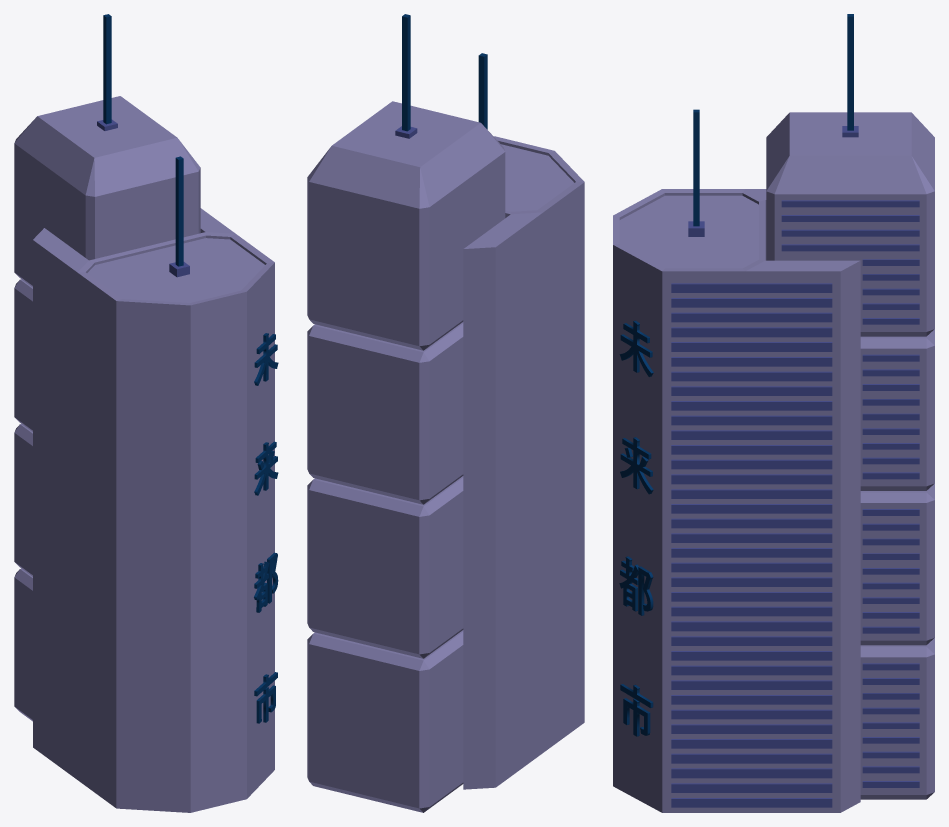
The model's file is Building2.fbx.
3 views of the same model, side by side, from view 1: azimuth 30°, elevation 25°; view 2: azimuth 150°, elevation 25°; view 3: azimuth 270°, elevation 25° (orthographic). The views are drawn at different scales.
Parts seen in each view (by area): view 1: Cube.009, Cube.008, Text, Cube.005, Cube.003, Cube.004, Cube.001, Cube.006; view 2: Cube.009, Cube.008, Cube.003, Cube.004, Cube.005, Cube.006, Cube.001; view 3: Cube.009, Cube.044, Cube.008, Cube.024, Cube.004, Cube.005, Cube.003, Text, Cube.001, Cube.006.
Part boxes in pixels (<box>): Cube.009: <box>33,208,274,812</box>; Cube.008: <box>14,96,200,287</box>; Text: <box>254,333,278,723</box>; Cube.005: <box>14,279,32,431</box>; Cube.003: <box>14,568,32,721</box>; Cube.004: <box>14,424,32,576</box>; Cube.001: <box>175,156,183,266</box>; Cube.006: <box>103,14,111,124</box>; Cube.009: <box>463,136,584,789</box>; Cube.008: <box>307,101,505,350</box>; Cube.003: <box>307,630,463,812</box>; Cube.004: <box>307,476,463,658</box>; Cube.005: <box>307,322,463,504</box>; Cube.006: <box>402,14,410,131</box>; Cube.001: <box>478,53,487,129</box>; Cube.009: <box>613,189,860,812</box>; Cube.044: <box>671,283,832,807</box>; Cube.008: <box>766,112,934,336</box>; Cube.024: <box>781,200,919,787</box>; Cube.004: <box>860,483,934,645</box>; Cube.005: <box>860,329,934,490</box>; Cube.003: <box>860,638,934,799</box>; Text: <box>619,320,653,736</box>; Cube.001: <box>693,109,699,226</box>; Cube.006: <box>847,14,853,130</box>.
Size of the model in its own units: 2437 by 10303 by 3967.
